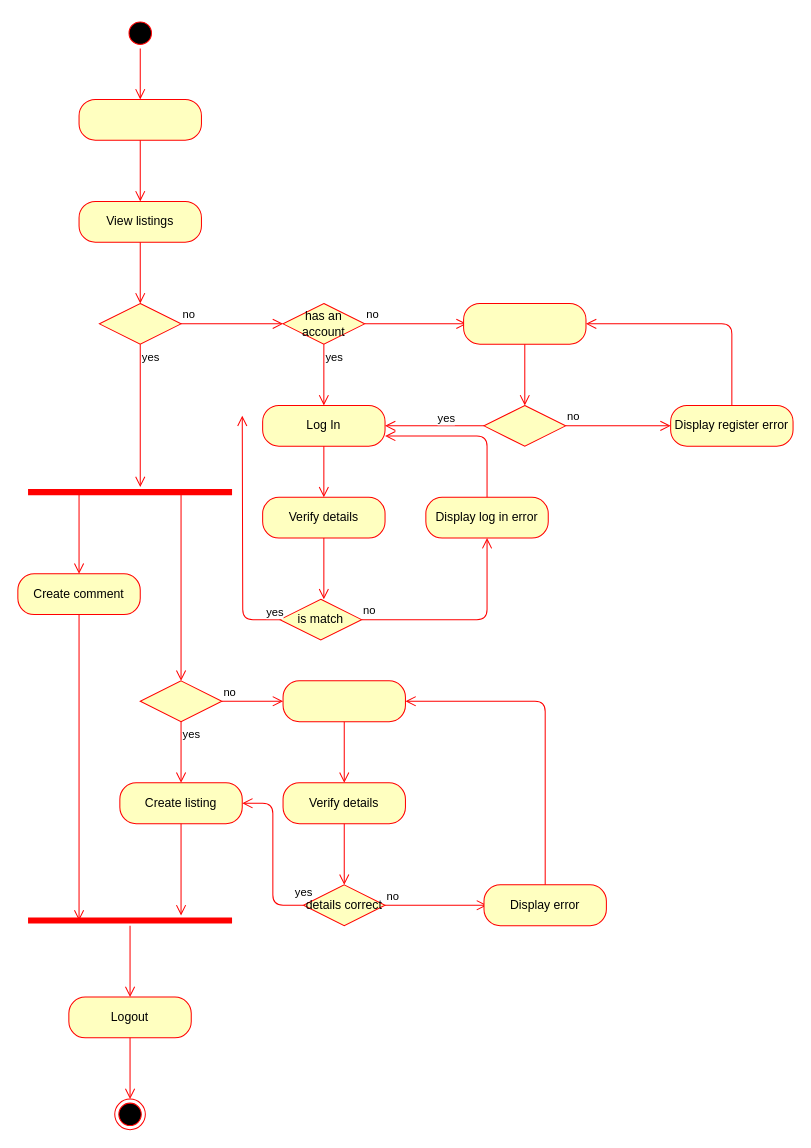
This 811x1148 diagram has some shape labels left out. Here are the shapes that lost their labels. From the top down, the box of each, then its label:
(78, 98, 201, 140): User enters website
(98, 302, 181, 344): is logged in
(463, 302, 586, 344): Register
(483, 404, 566, 446): is successful
(139, 680, 222, 722): is tutor
(282, 680, 405, 722): Become tutor
